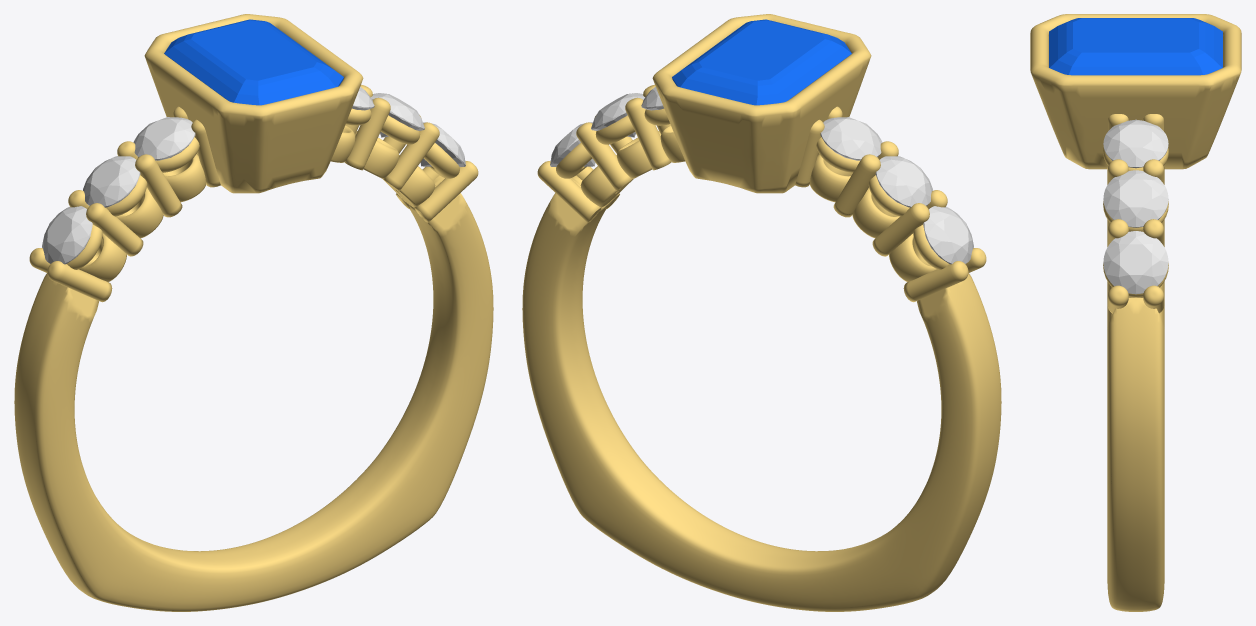
The model's file is bluesapphire-emerald-yellowgold-bezelset-europeanshank-7stone.glb.
The picture shows the model from 3 angles, left to right: view 1: azimuth 30°, elevation 25°; view 2: azimuth 150°, elevation 25°; view 3: azimuth 270°, elevation 25°; orthographic projection.
Visible parts, largest first — view 1: metal.002, stone.001, side.006, side.007, side.008, side.010; view 2: metal.002, stone.001, side.006, side.007, side.008, side.010; view 3: metal.002, stone.001, side.011, side.010, side.009.
Boxes of the visible parts, bbox=[...] form: metal.002: bbox=[14, 14, 493, 611]; stone.001: bbox=[164, 19, 343, 105]; side.006: bbox=[42, 206, 92, 264]; side.007: bbox=[83, 156, 140, 207]; side.008: bbox=[133, 117, 195, 160]; side.010: bbox=[371, 93, 424, 137]; metal.002: bbox=[522, 14, 1001, 611]; stone.001: bbox=[672, 19, 851, 105]; side.006: bbox=[923, 206, 973, 264]; side.007: bbox=[875, 156, 932, 207]; side.008: bbox=[820, 117, 882, 160]; side.010: bbox=[591, 93, 644, 137]; metal.002: bbox=[1030, 14, 1241, 611]; stone.001: bbox=[1049, 18, 1222, 75]; side.011: bbox=[1103, 231, 1168, 294]; side.010: bbox=[1103, 170, 1168, 227]; side.009: bbox=[1103, 119, 1168, 168].
Bounding box in the file's own units: 20.11 × 22.75 × 8.11.
